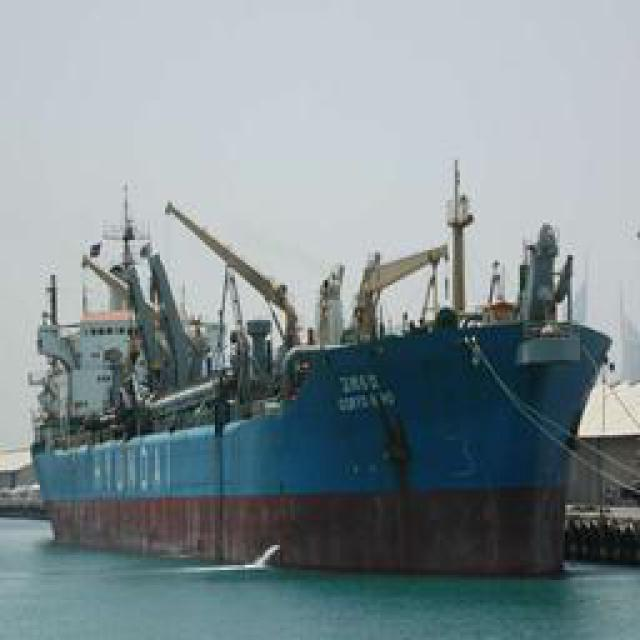Ship: (44, 149, 617, 574)
